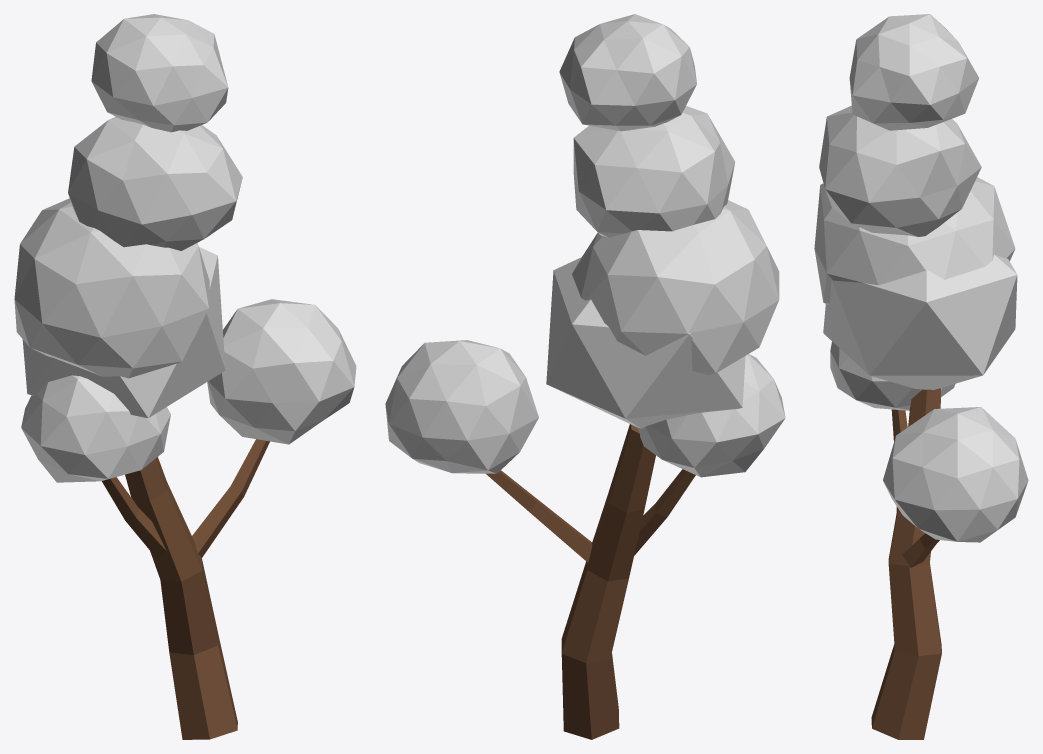
Rendered from tree_tall_1.glb.
The picture shows the model from 3 angles, left to right: view 1: azimuth 30°, elevation 25°; view 2: azimuth 150°, elevation 25°; view 3: azimuth 270°, elevation 25°; orthographic projection. The views are drawn at different scales.
Parts seen in each view (by area): view 1: tree_tall_1; view 2: tree_tall_1; view 3: tree_tall_1.
Part boxes in pixels (x1,y1,x2,y2): tree_tall_1: (14,14,356,739); tree_tall_1: (385,14,785,739); tree_tall_1: (814,14,1028,739).
Bounding box in the file's own units: 3.23 × 6.44 × 1.81.
